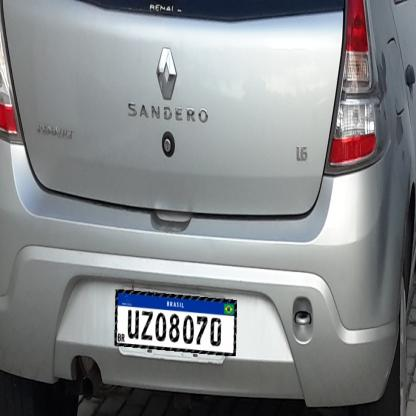PlacaM: (114, 290, 237, 356)
